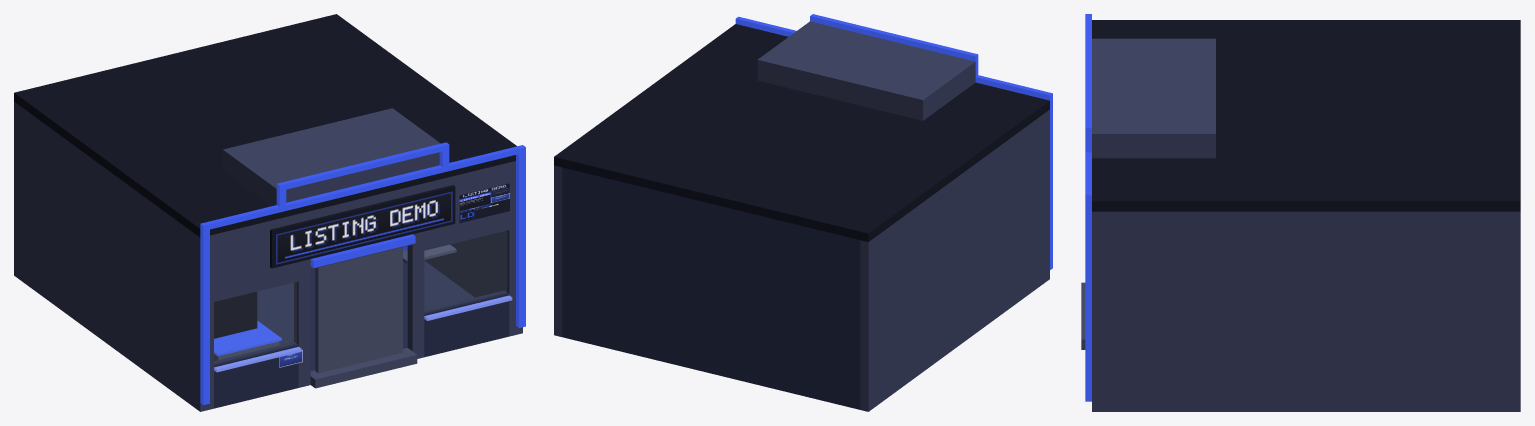
The model's file is plot.glb.
3 renders of one model, left to right at view 1: azimuth 30°, elevation 25°; view 2: azimuth 150°, elevation 25°; view 3: azimuth 270°, elevation 25°, orthographic. The views are drawn at different scales.
Visible parts, largest first — view 1: facade, neon, sign_1, door_panel_L, door_panel_R, pic_1, lintel; view 2: facade, neon; view 3: facade, neon.
Boxes of the visible parts, left/top/right/bottom form: facade: left=14, top=14, right=522, bottom=411; neon: left=200, top=142, right=525, bottom=404; sign_1: left=276, top=191, right=452, bottom=264; door_panel_L: left=315, top=257, right=360, bottom=373; door_panel_R: left=360, top=247, right=402, bottom=362; pic_1: left=459, top=183, right=509, bottom=223; lintel: left=310, top=234, right=415, bottom=267; facade: left=554, top=21, right=1049, bottom=411; neon: left=735, top=14, right=1052, bottom=269; facade: left=1081, top=20, right=1520, bottom=411; neon: left=1085, top=14, right=1091, bottom=401.
Bounding box in the file's own units: 9.5 × 5.9 × 9.74.
4 materials, 3 textured.
